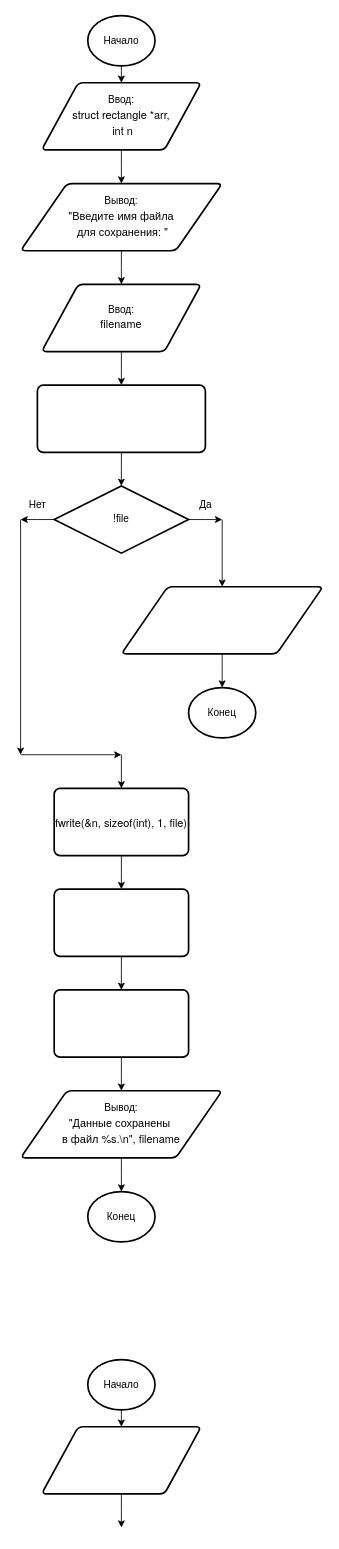
Some shapes in this 339 by 1549 pixel diagram are drawn without their labels. The centre of each missing label's shape, as x and y in pixels:
*file = fopen(filename, "wb"): [121,418]
fclose(file): [121,1023]
fwrite(arr, sizeof(struct rectangle), n, file): [121,922]
Ввод: struct rectangle *arr, int *n: [121,1459]
Вывод: "Ошибка при открытии файла": [221,619]
